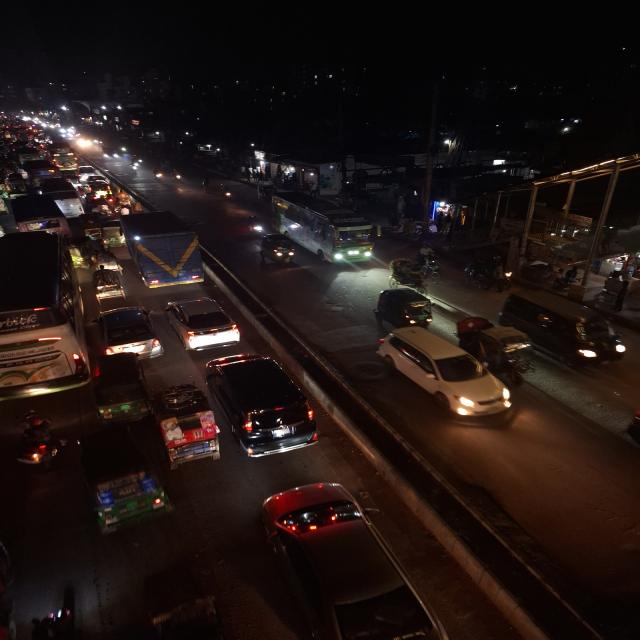bus: (0, 234, 90, 395), (272, 198, 376, 265), (7, 199, 67, 237), (43, 178, 83, 218), (49, 145, 83, 173)
car: (244, 478, 444, 640), (205, 354, 329, 454), (377, 326, 508, 416), (504, 294, 630, 362), (169, 296, 240, 348), (99, 314, 163, 363), (99, 147, 118, 161), (77, 168, 95, 182)
cng: (80, 435, 169, 530), (84, 358, 156, 424), (369, 284, 434, 328), (256, 235, 297, 267), (96, 220, 123, 254)
motorcycle: (12, 405, 70, 480), (219, 181, 235, 205), (243, 217, 262, 236), (170, 165, 185, 186), (152, 166, 164, 183), (106, 190, 116, 210), (130, 161, 140, 177)
pedestrian: (488, 260, 505, 296), (202, 177, 212, 196)
rickshaw: (148, 388, 222, 470), (465, 318, 535, 374), (87, 270, 134, 308), (384, 257, 426, 291)
truck: (118, 218, 211, 290)
